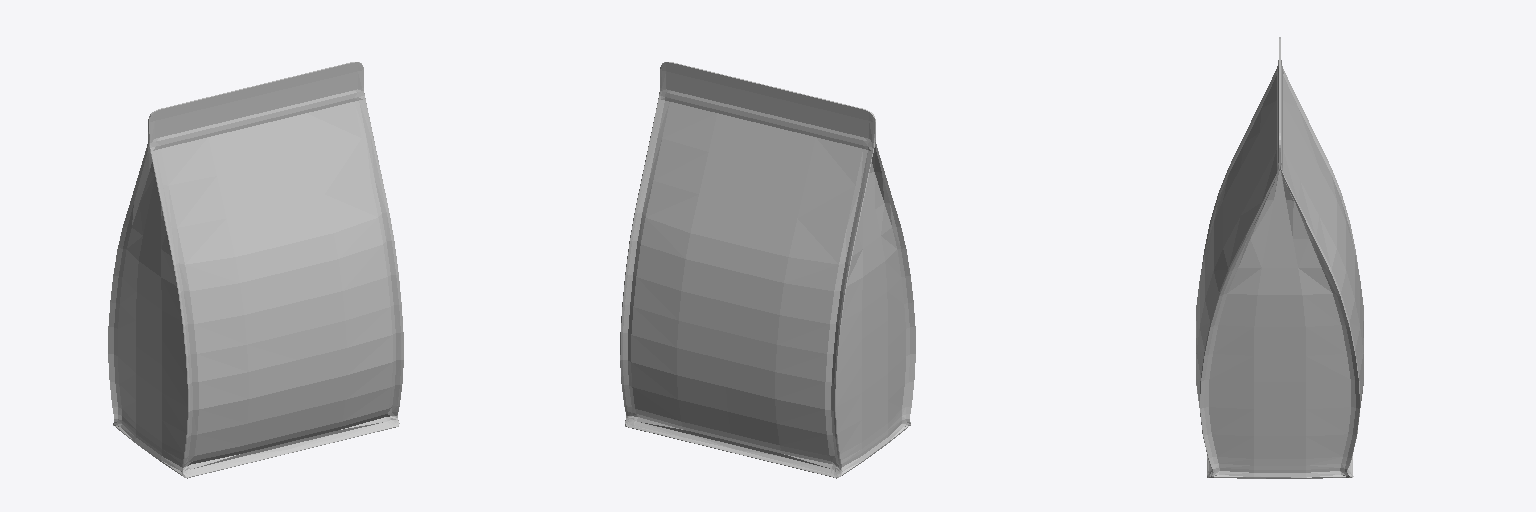
File: PRUEBA_ESPECIALIDAD_FELINO_HAIRBALLCONTROL.obj
The picture shows the model from 3 angles: view 1: azimuth 30°, elevation 25°; view 2: azimuth 150°, elevation 25°; view 3: azimuth 270°, elevation 25°; orthographic projection.
Parts seen in each view (by area): view 1: ESPECIALIDAD_FELINO_HAIRBALLCONTROL; view 2: ESPECIALIDAD_FELINO_HAIRBALLCONTROL; view 3: ESPECIALIDAD_FELINO_HAIRBALLCONTROL.
Part boxes in pixels (x1,y1,x2,y2): ESPECIALIDAD_FELINO_HAIRBALLCONTROL: (108,62,403,478); ESPECIALIDAD_FELINO_HAIRBALLCONTROL: (620,62,915,478); ESPECIALIDAD_FELINO_HAIRBALLCONTROL: (1196,37,1363,478).
Bounding box in the file's own units: 0.2159 × 0.3232 × 0.1451.